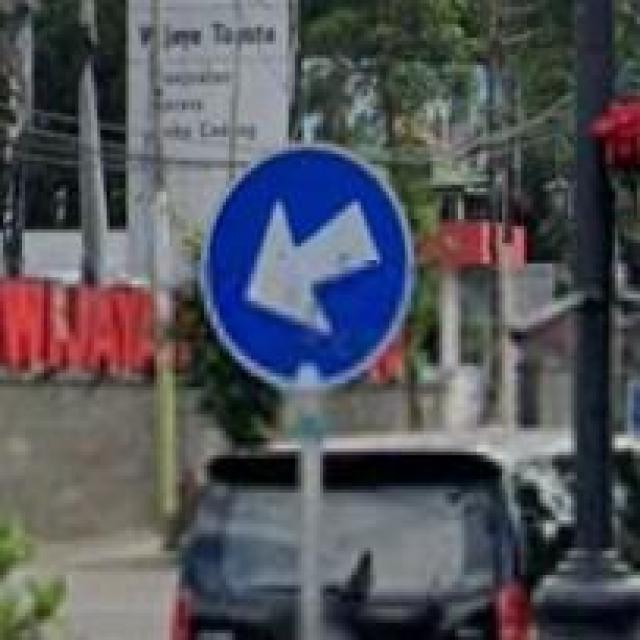traffic sign: (207, 151, 404, 387)
